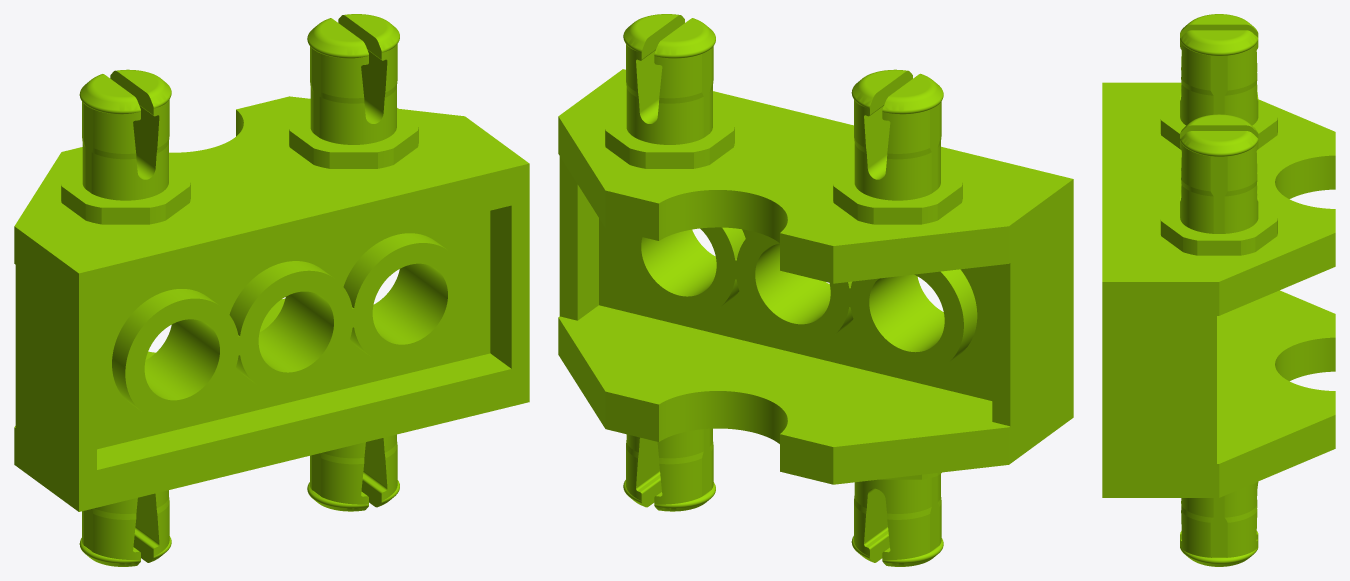
3 views of the same model, side by side, from view 1: azimuth 30°, elevation 25°; view 2: azimuth 150°, elevation 25°; view 3: azimuth 270°, elevation 25° (orthographic). The views are drawn at different scales.
Parts seen in each view (by area): view 1: 228-2500-2308; view 2: 228-2500-2308; view 3: 228-2500-2308.
Part boxes in pixels (x1=…): 228-2500-2308: x1=14, y1=14, x2=529, y2=566; 228-2500-2308: x1=558, y1=14, x2=1073, y2=566; 228-2500-2308: x1=1102, y1=14, x2=1335, y2=566.
Size of the model in its own units: 0.0251 by 0.025 by 0.0124.
